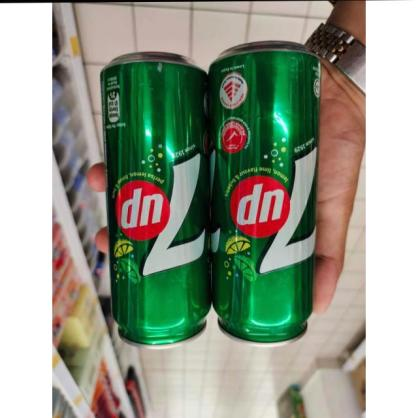can: (100, 52, 210, 350), (211, 41, 316, 348)
